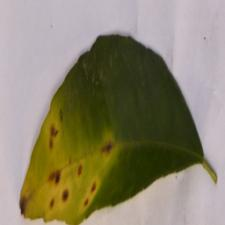Canker: (19, 89, 133, 218)
